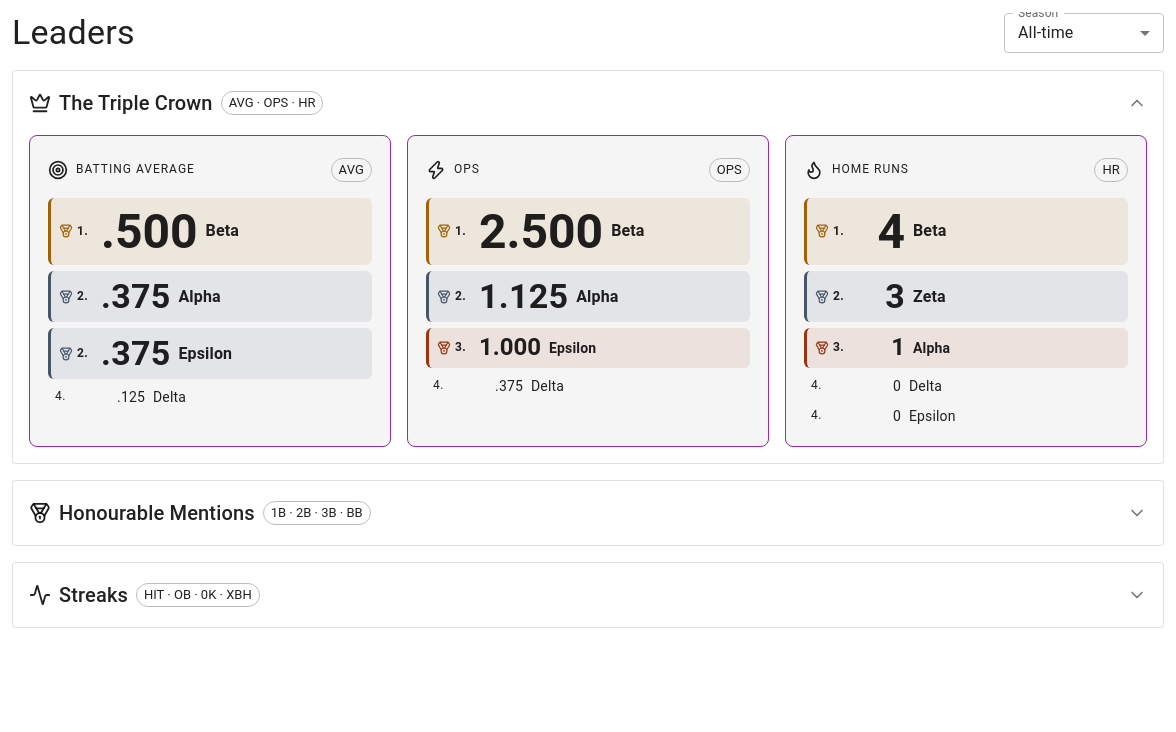
Test: LeadersPage — mobile sections › lets the open section be closed again
Click the button "The Triple Crown AVG · OPS · HR" at (136, 103), box [13,71,1163,135]
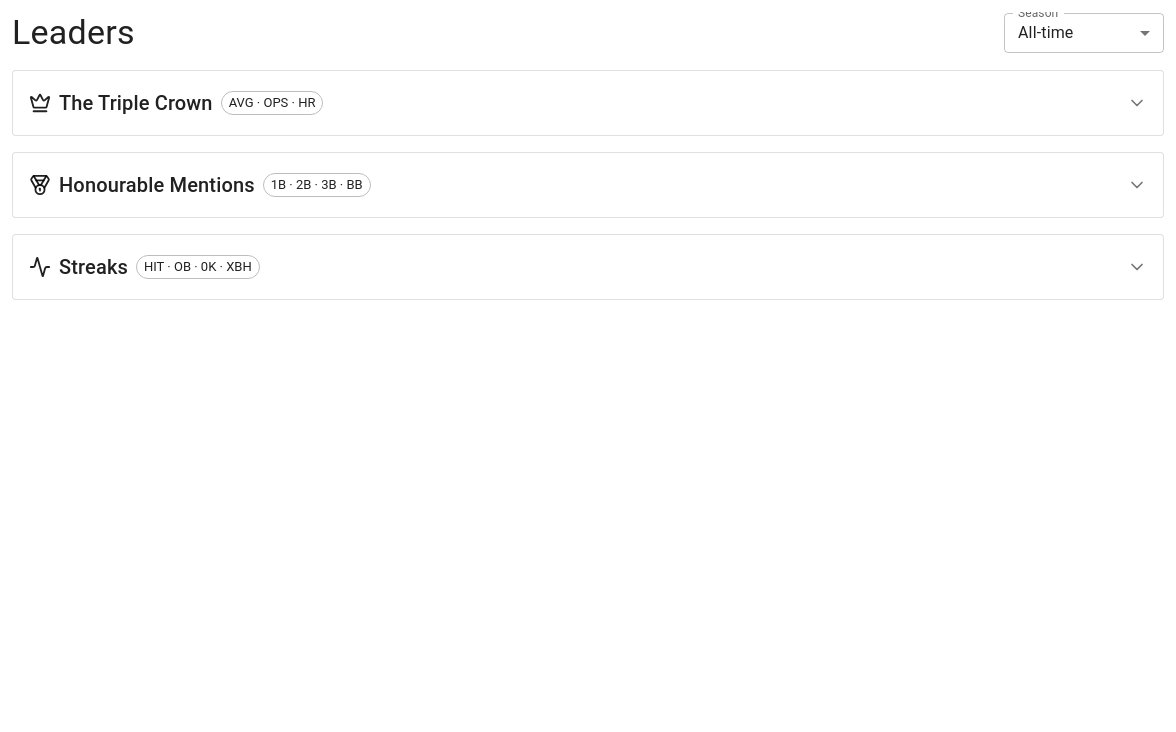
Expected: the button "The Triple Crown AVG · OPS · HR" is collapsed, [13,71,1163,135]
